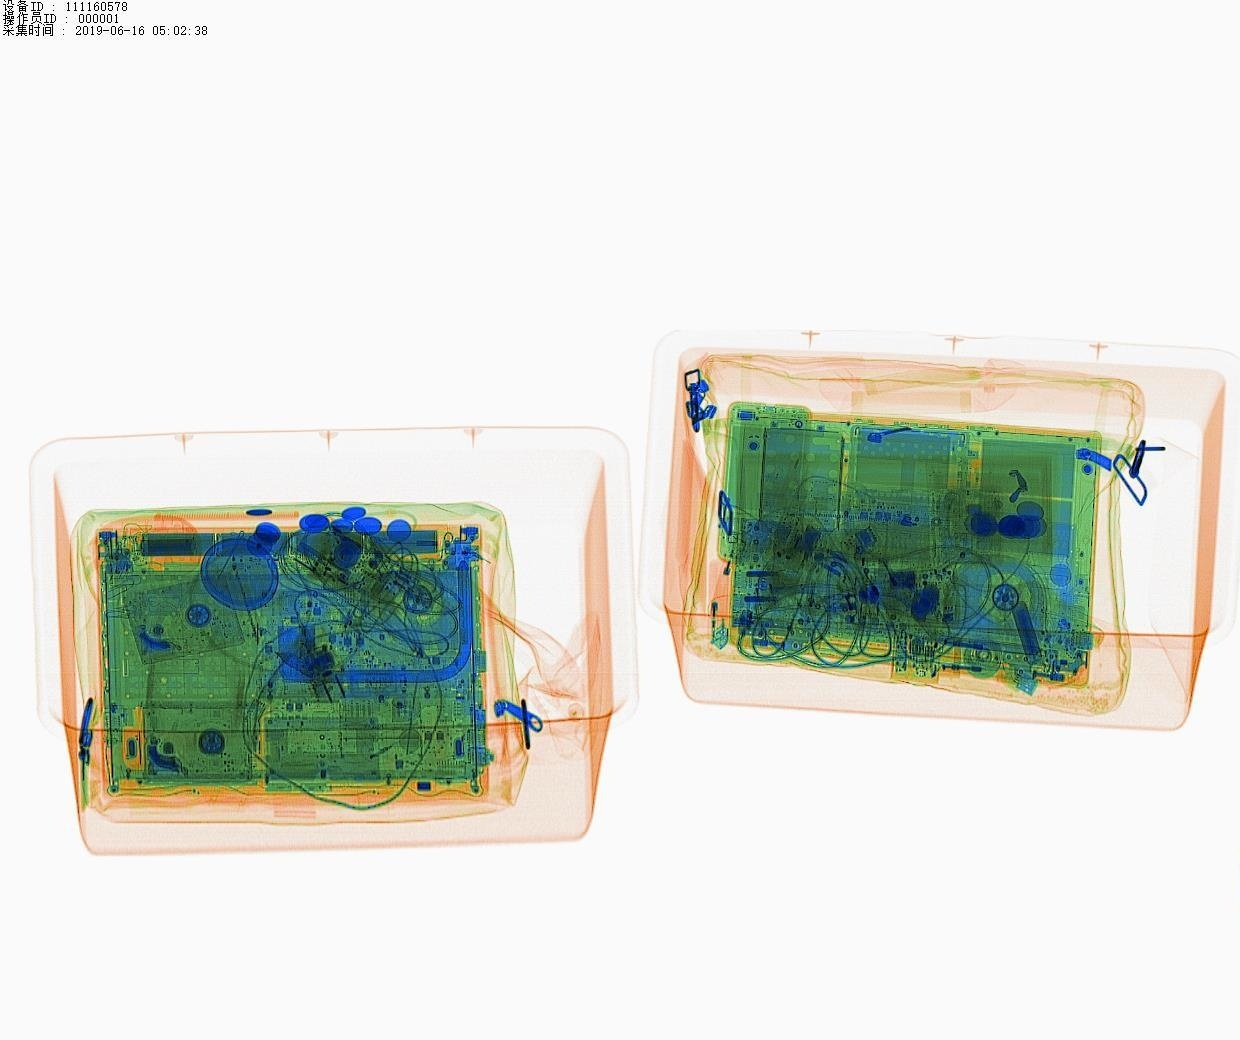NonmetallicFire: (701, 515, 756, 625), (700, 553, 742, 664)
